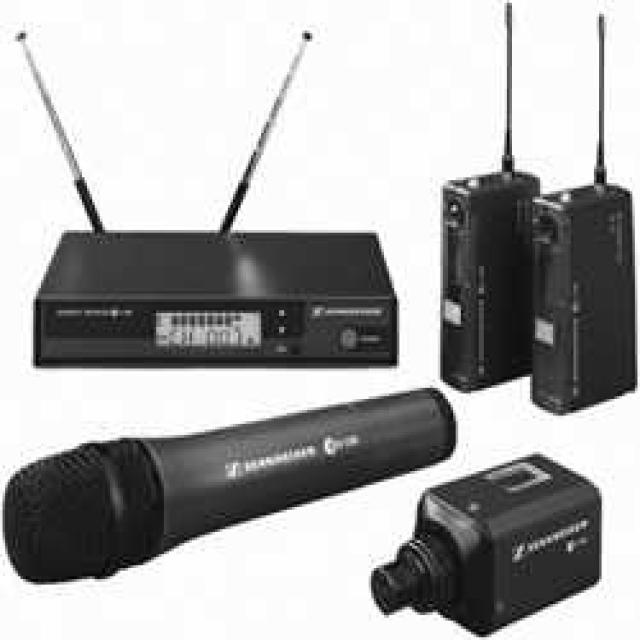microphone: (5, 385, 447, 586)
